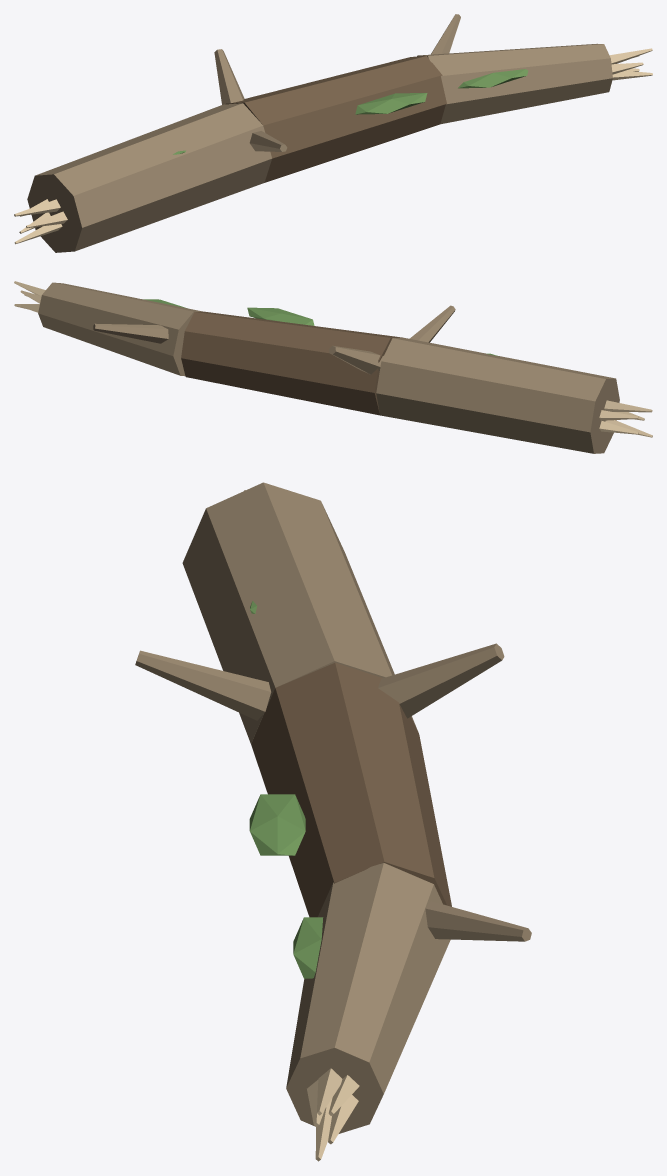
The model's file is broken_tree_03.glb.
The picture shows the model from 3 angles, top to bottom: view 1: azimuth 30°, elevation 25°; view 2: azimuth 150°, elevation 25°; view 3: azimuth 270°, elevation 25°; orthographic projection. The views are drawn at different scales.
Parts seen in each view (by area): view 1: broken_tree_03_trunk_segment_1, broken_tree_03_trunk_segment_2, broken_tree_03_trunk_segment_3, broken_tree_03_moss_patch_3, broken_tree_03_branch_stub_1, broken_tree_03_moss_patch_4, broken_tree_03_branch_stub_2, broken_tree_03_branch_stub_3, broken_tree_03_splinter_1_2; view 2: broken_tree_03_trunk_segment_1, broken_tree_03_trunk_segment_2, broken_tree_03_trunk_segment_3, broken_tree_03_branch_stub_3, broken_tree_03_branch_stub_1, broken_tree_03_moss_patch_3, broken_tree_03_branch_stub_2, broken_tree_03_splinter_1_2, broken_tree_03_splinter_1_5, broken_tree_03_splinter_1_1; view 3: broken_tree_03_trunk_segment_2, broken_tree_03_trunk_segment_1, broken_tree_03_trunk_segment_3, broken_tree_03_branch_stub_2, broken_tree_03_branch_stub_1, broken_tree_03_moss_patch_3, broken_tree_03_branch_stub_3, broken_tree_03_moss_patch_4.
Boxes of the visible parts, x1,y1,x2,y2 form: broken_tree_03_trunk_segment_1: [27, 103, 271, 252]; broken_tree_03_trunk_segment_2: [225, 56, 446, 182]; broken_tree_03_trunk_segment_3: [417, 43, 612, 124]; broken_tree_03_moss_patch_3: [355, 93, 427, 114]; broken_tree_03_branch_stub_1: [214, 49, 244, 104]; broken_tree_03_moss_patch_4: [458, 69, 528, 88]; broken_tree_03_branch_stub_2: [249, 131, 287, 151]; broken_tree_03_branch_stub_3: [431, 14, 460, 54]; broken_tree_03_splinter_1_2: [14, 199, 60, 216]; broken_tree_03_trunk_segment_1: [376, 337, 619, 453]; broken_tree_03_trunk_segment_2: [181, 311, 402, 415]; broken_tree_03_trunk_segment_3: [38, 282, 202, 376]; broken_tree_03_branch_stub_3: [93, 323, 168, 343]; broken_tree_03_branch_stub_1: [329, 345, 383, 374]; broken_tree_03_moss_patch_3: [247, 307, 314, 325]; broken_tree_03_branch_stub_2: [409, 305, 455, 342]; broken_tree_03_splinter_1_2: [604, 400, 652, 412]; broken_tree_03_splinter_1_5: [599, 421, 638, 434]; broken_tree_03_splinter_1_1: [599, 410, 638, 420]; broken_tree_03_trunk_segment_2: [251, 662, 451, 917]; broken_tree_03_trunk_segment_1: [182, 482, 418, 743]; broken_tree_03_trunk_segment_3: [286, 863, 450, 1133]; broken_tree_03_branch_stub_2: [135, 650, 271, 720]; broken_tree_03_branch_stub_1: [378, 643, 504, 718]; broken_tree_03_moss_patch_3: [249, 794, 305, 855]; broken_tree_03_branch_stub_3: [425, 901, 531, 941]; broken_tree_03_moss_patch_4: [293, 917, 323, 978].
Bounding box in the file's own units: 5.21 × 0.7849 × 1.45.
